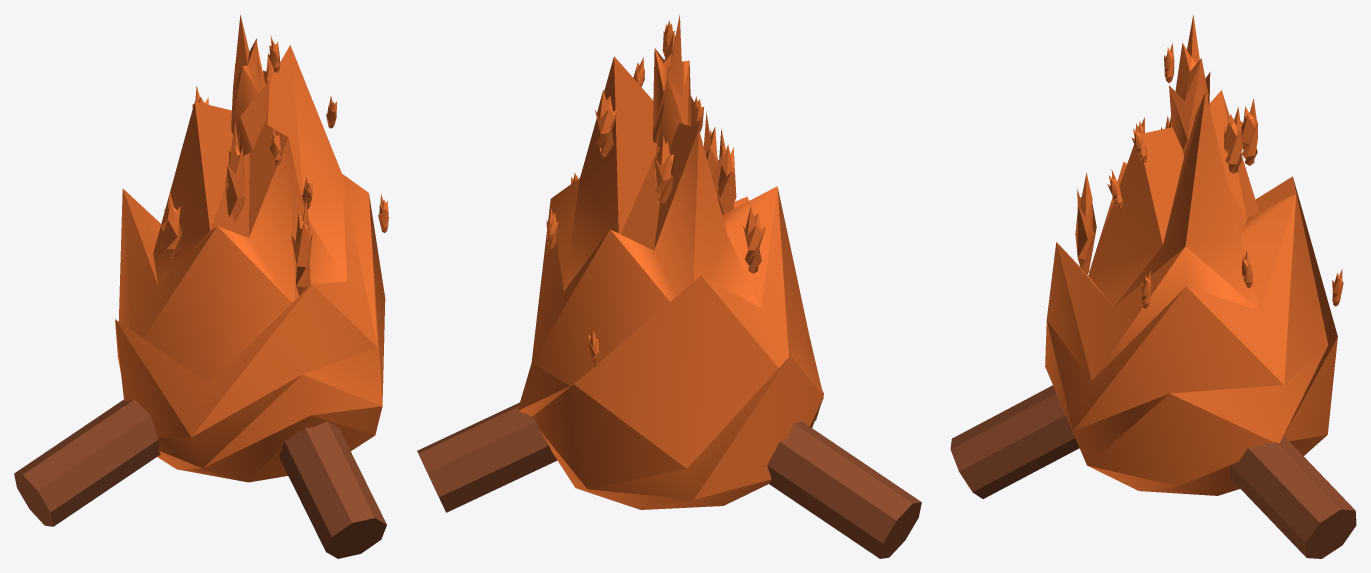
File: fogata.obj
3 renders of one model, left to right at view 1: azimuth 30°, elevation 25°; view 2: azimuth 150°, elevation 25°; view 3: azimuth 270°, elevation 25°, orthographic. The views are drawn at different scales.
Parts seen in each view (by area): view 1: pSphere1.001_Malla; view 2: pSphere1.001_Malla; view 3: pSphere1.001_Malla.
Part boxes in pixels (box(x1,y1,x2,y2)): pSphere1.001_Malla: box(14, 14, 388, 558); pSphere1.001_Malla: box(417, 14, 921, 558); pSphere1.001_Malla: box(950, 15, 1356, 558).
Bounding box in the file's own units: 0.8998 × 0.9991 × 0.7709.
